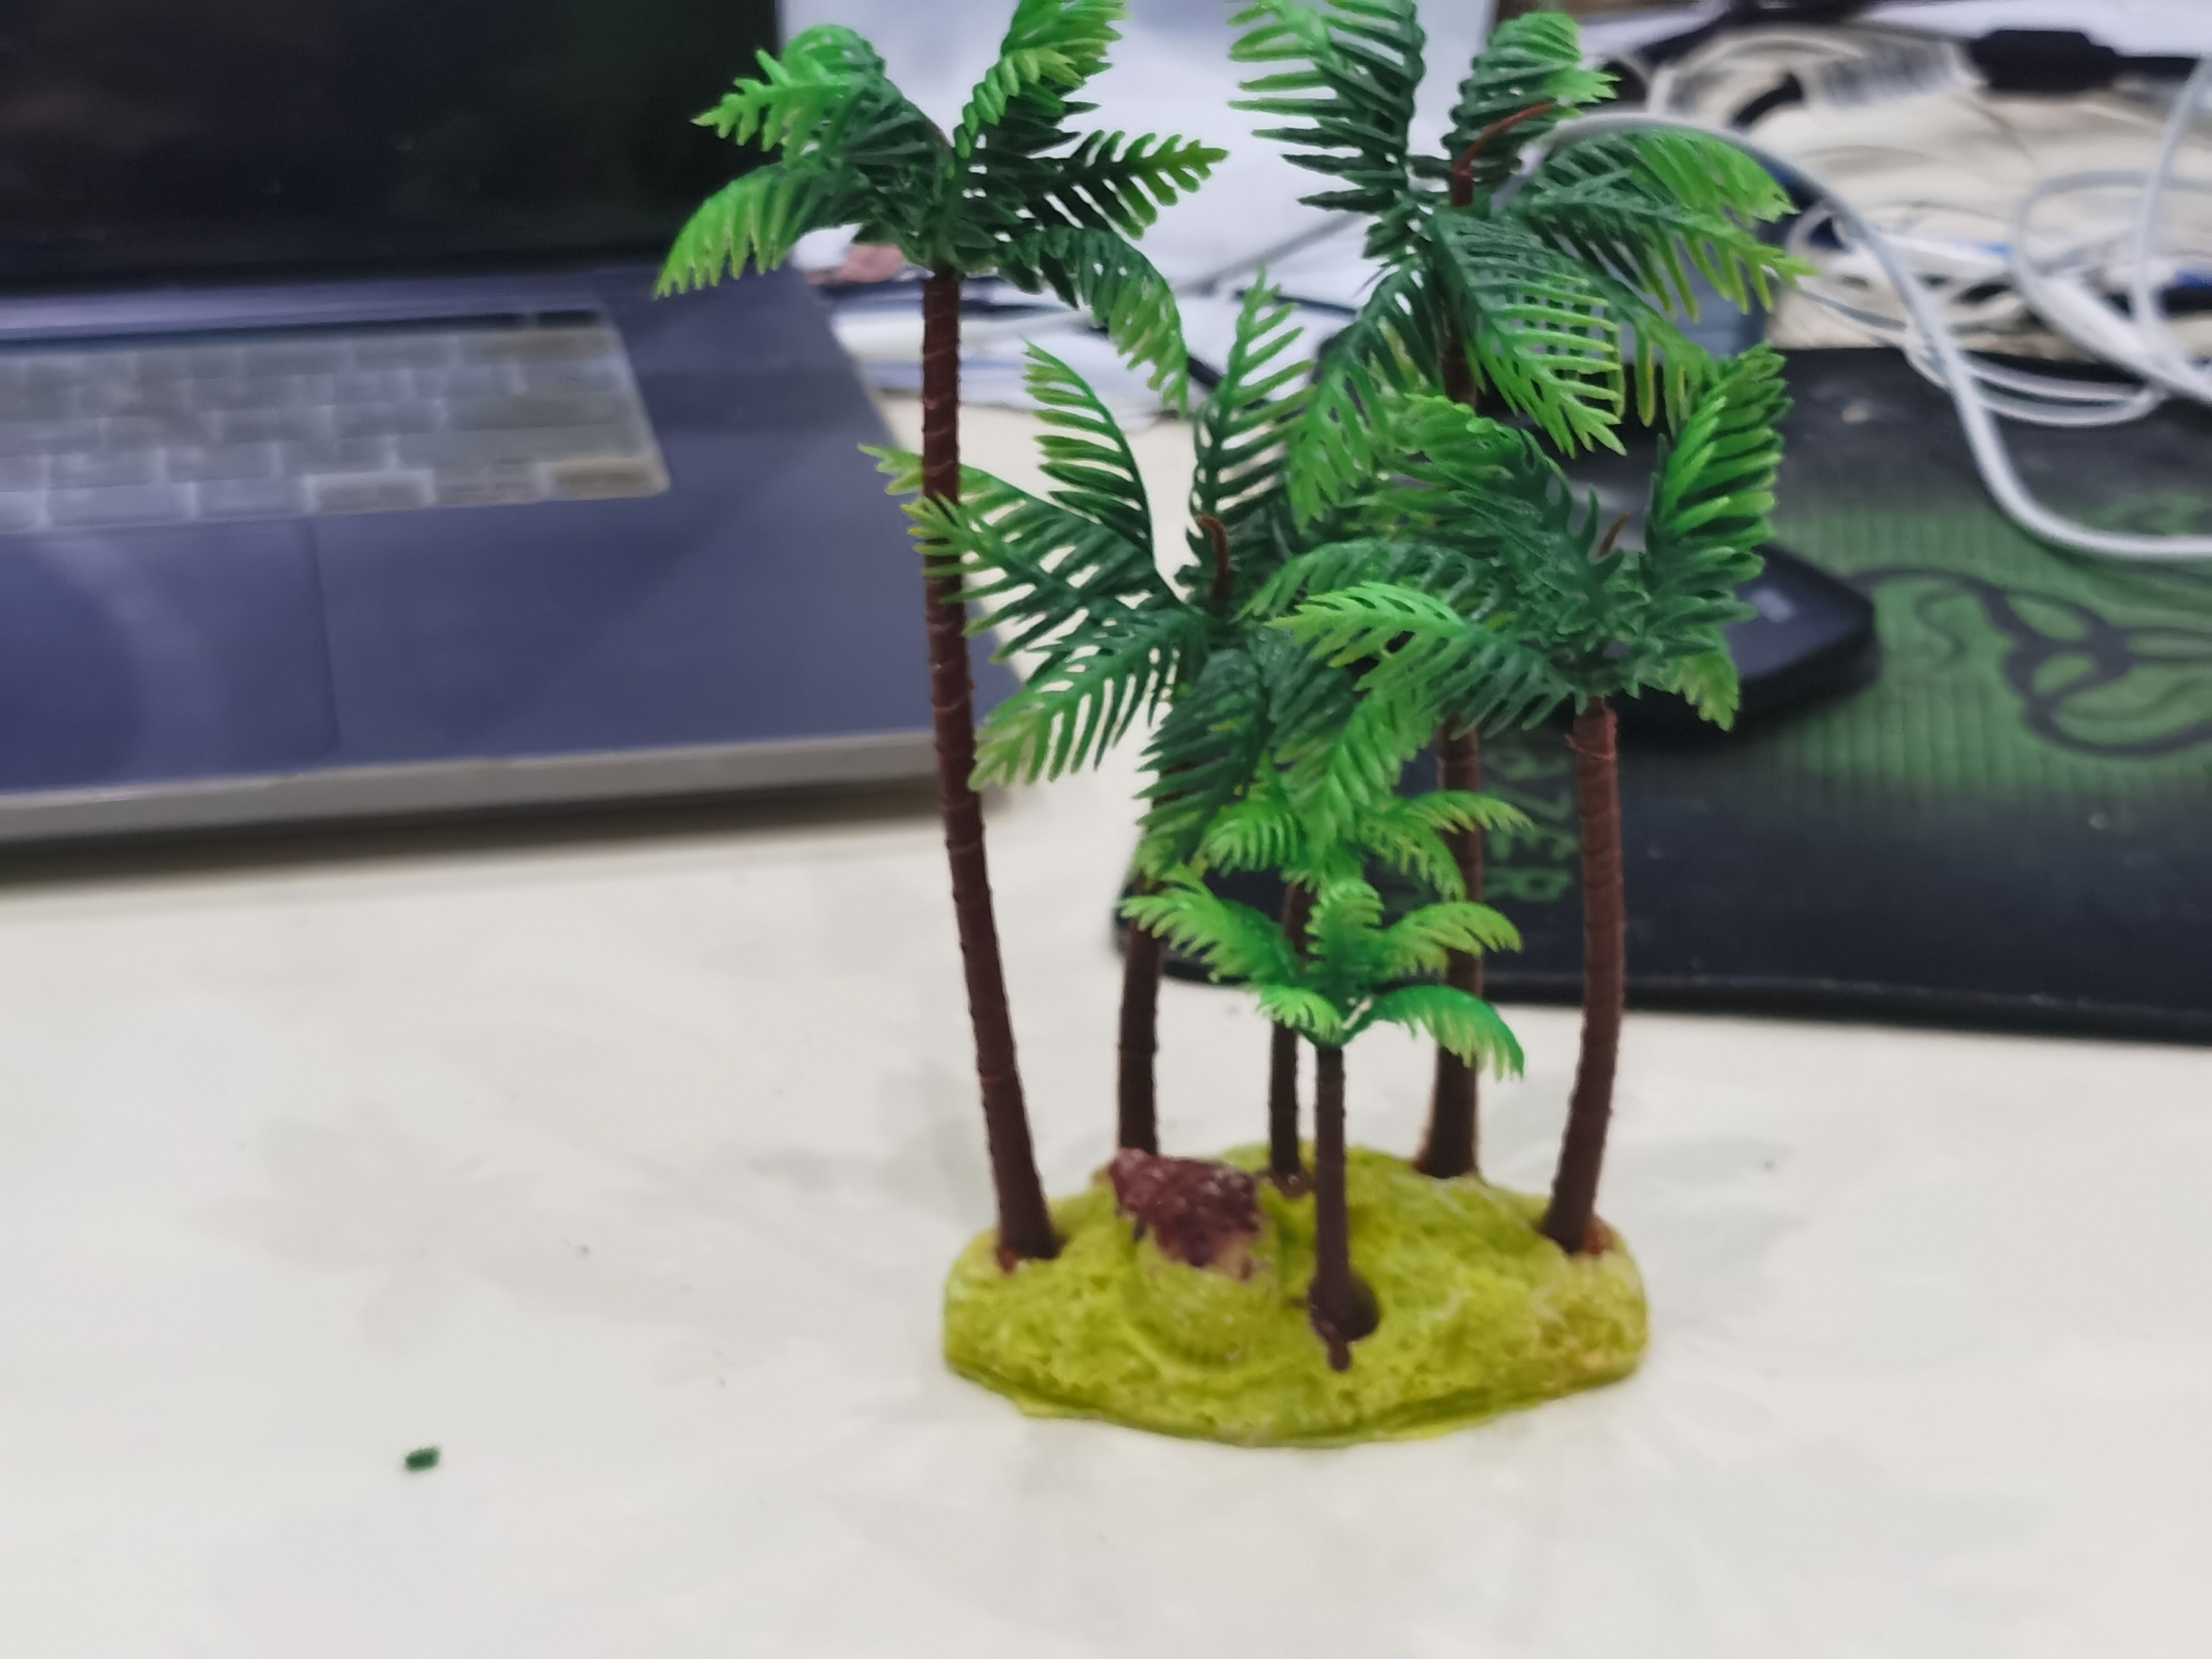corn: (653, 3, 1808, 1446)
